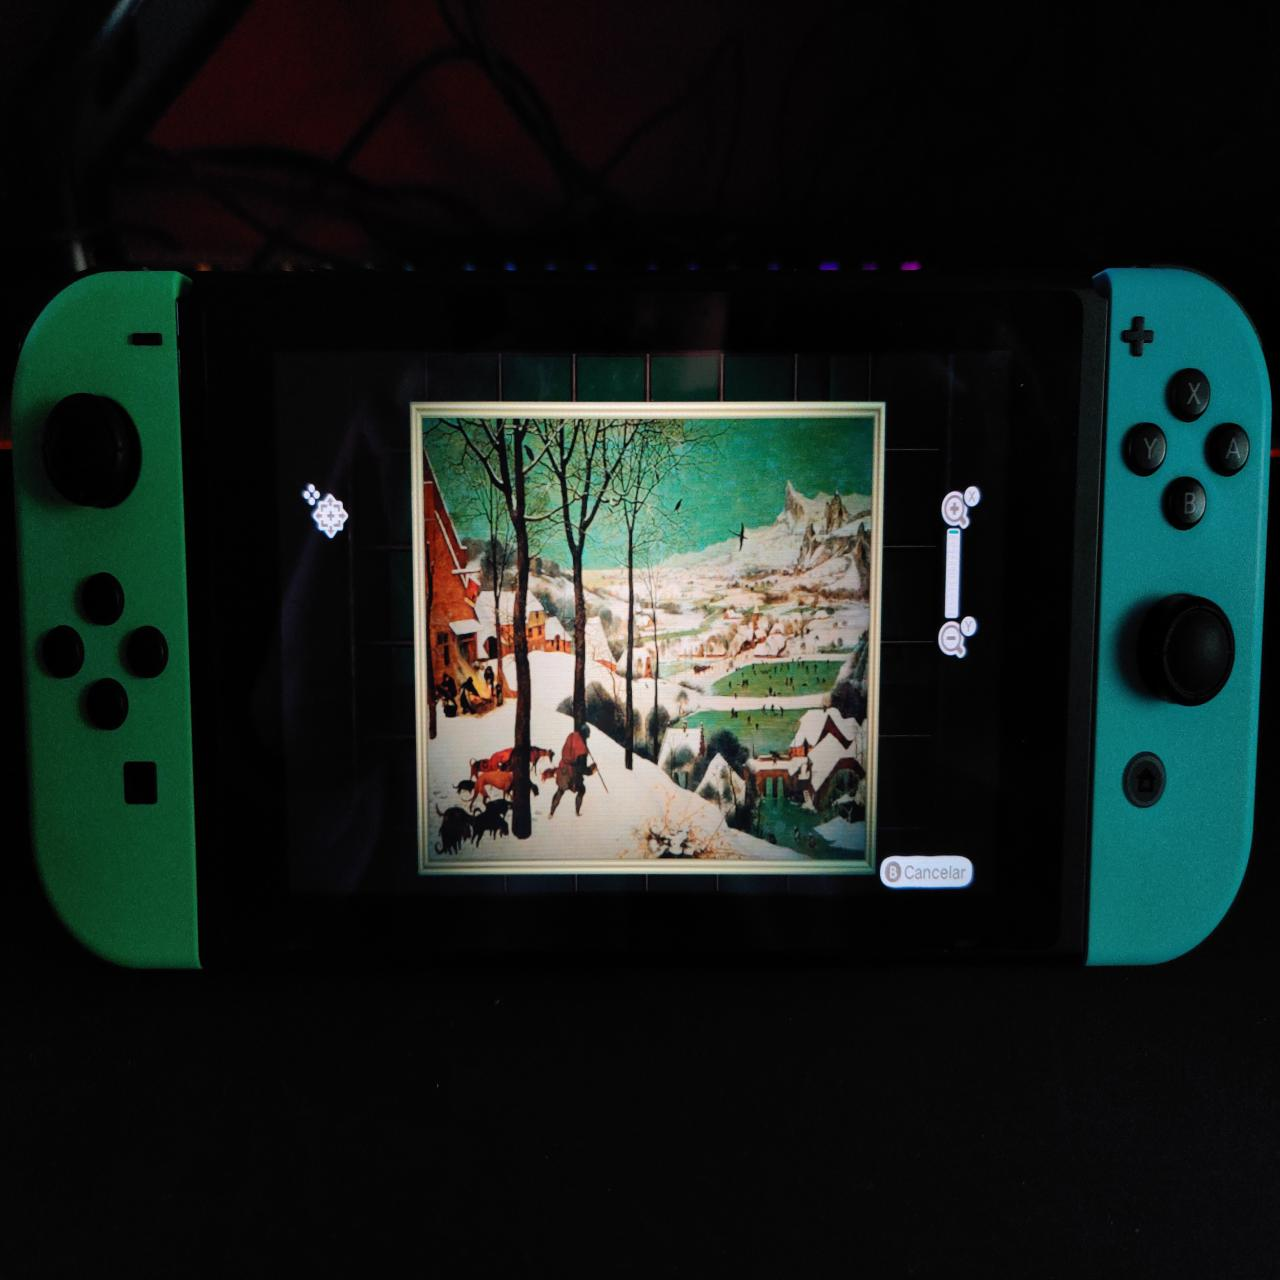HunterSnowFake: (424, 417, 867, 862)
